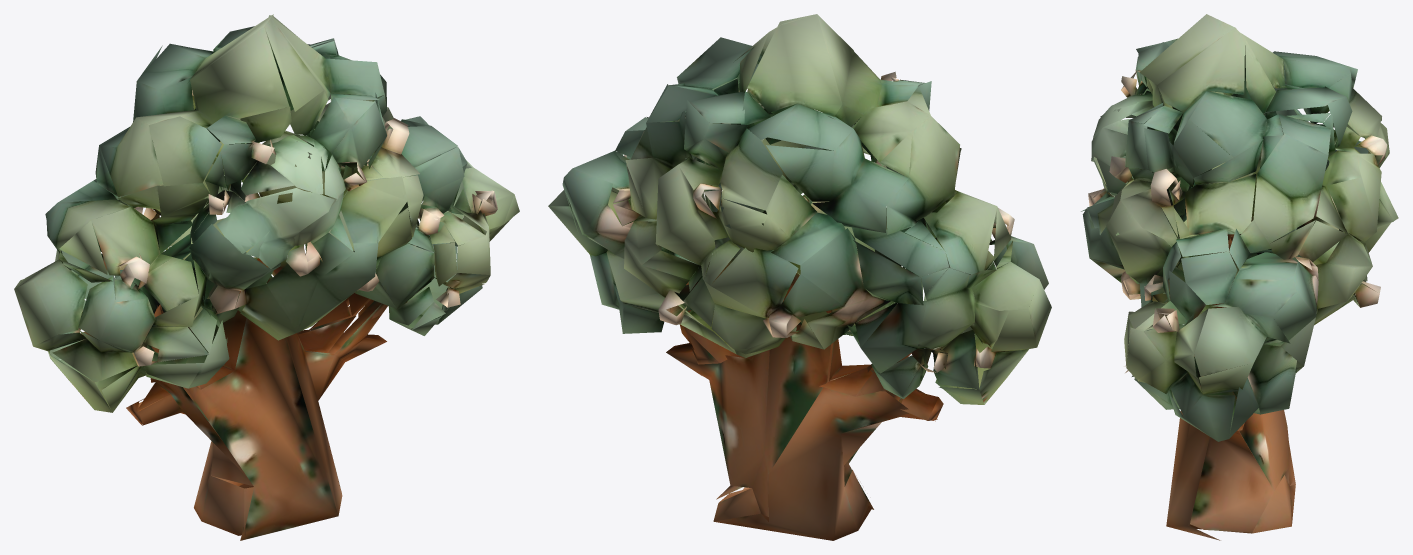
The model's file is pohon.glb.
3 renders of one model, left to right at view 1: azimuth 30°, elevation 25°; view 2: azimuth 150°, elevation 25°; view 3: azimuth 270°, elevation 25°, orthographic.
Visible parts, largest first — view 1: Pohon.001; view 2: Pohon.001; view 3: Pohon.001.
Part boxes in pixels (box(x1,y1,x2,y2)): Pohon.001: box(14, 14, 519, 540); Pohon.001: box(548, 14, 1051, 540); Pohon.001: box(1081, 14, 1398, 540).
Size of the model in its own units: 2.93 by 2.87 by 1.69.
1 material, 1 textured.
